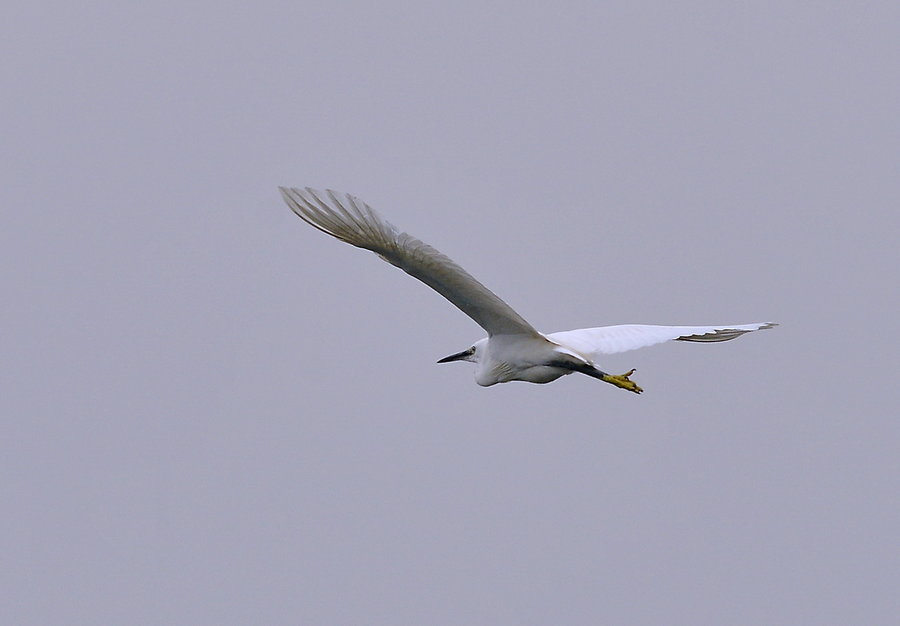bird: (274, 176, 781, 400)
